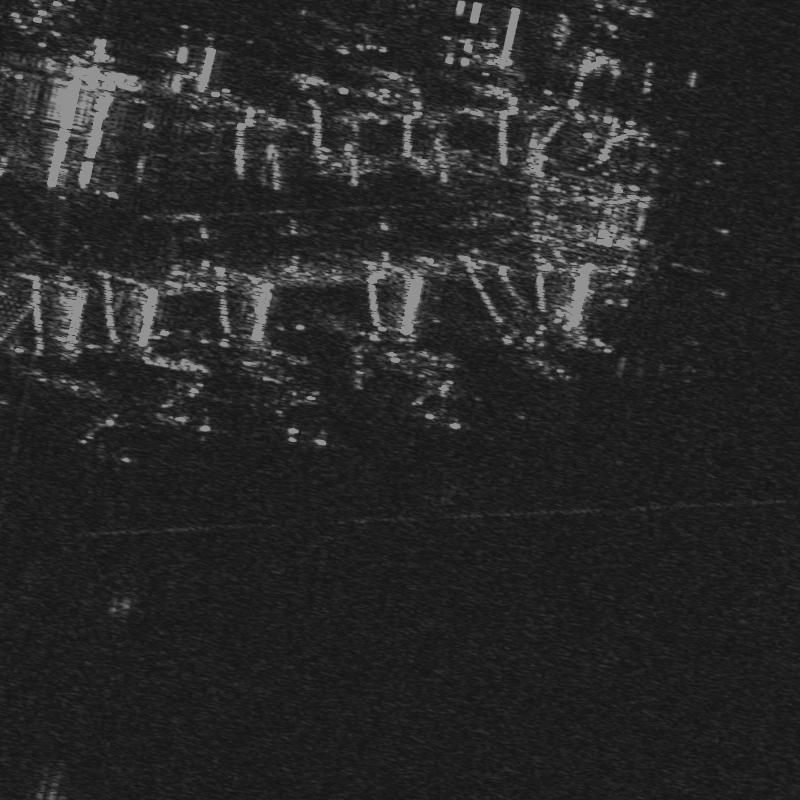A220: (157, 362, 231, 434)
Boeing737: (79, 391, 145, 468)
Boeing787: (265, 355, 329, 445)
other: (409, 357, 481, 431)
